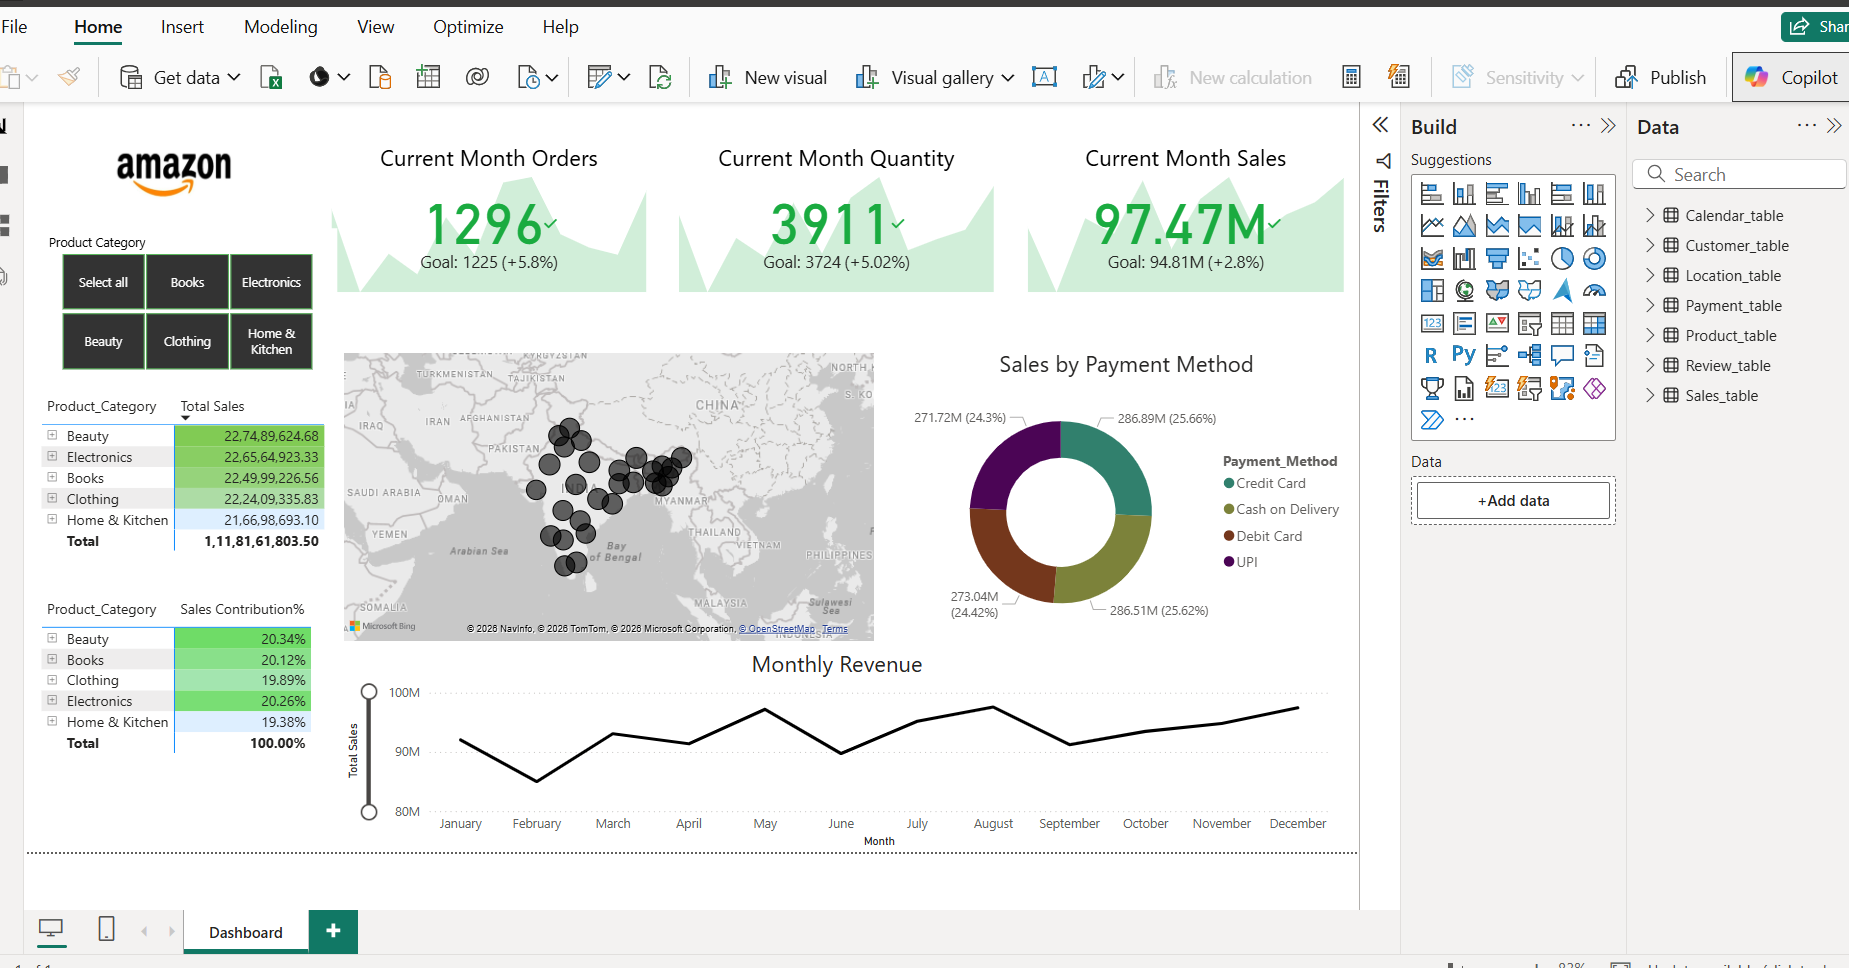

This screenshot's page, from the dashboard's own definition file:
{"tool":"powerbi","page":{"name":"Dashboard","canvas":[1280,720],"ordinal":0},"visuals":[{"type":"kpi","title":"Current Month Sales","fields":{"Indicator":["Sales_table.Total Sales"],"TrendLine":["Calendar_table.Start of Month"],"Goal":["Sales_table.Last Month Sales"]},"box":[957.5,37.9,313,149.2],"z":0},{"type":"kpi","title":"Current Month Orders","fields":{"Indicator":["Sales_table.Total Orders"],"TrendLine":["Calendar_table.Start of Month"],"Goal":["Sales_table.Last Month Orders"]},"box":[289.8,37.9,311.8,149.2],"z":1000},{"type":"kpi","title":"Current Month Quantity","fields":{"TrendLine":["Calendar_table.Start of Month"],"Indicator":["Sales_table.Total Quantity"],"Goal":["Sales_table.Last Month Quantity"]},"box":[623.6,37.9,311.8,149.2],"z":2000},{"type":"map","fields":{"Category":["Location_table.State"],"Size":["Sales_table.Total Sales"]},"box":[301.5,236.6,518,285.7],"z":3000},{"type":"lineChart","title":"Monthly Revenue","fields":{"Y":["Sales_table.Total Sales"],"Category":["Calendar_table.Date.Variation.Date Hierarchy.Year","Calendar_table.Date.Variation.Date Hierarchy.Quarter","Calendar_table.Date.Variation.Date Hierarchy.Month","Calendar_table.Date.Variation.Date Hierarchy.Day"]},"box":[301.5,523.7,955.1,196.2],"z":4000},{"type":"donutChart","title":" Sales by Payment Method","fields":{"Category":["Payment_table.Payment_Method"],"Y":["Sales_table.Total Sales"]},"box":[834,236,446.3,286.1],"z":5000},{"type":"pivotTable","fields":{"Rows":["Product_table.Product_Category Hierarchy.Product_Category","Product_table.Product_Category Hierarchy.Product_Name"],"Values":["Sales_table.Total Sales"]},"box":[11.5,275.6,290,194.8],"z":6000},{"type":"pivotTable","fields":{"Rows":["Product_table.Product_Category Hierarchy.Product_Category","Product_table.Product_Category Hierarchy.Product_Name"],"Values":["Sales_table.Sales Contribution%"]},"box":[11.5,470.3,290,233.7],"z":7000},{"type":"slicer","fields":{"Values":["Product_table.Product_Category"]},"box":[11,121.1,289.8,141.8],"z":8000},{"type":"image","box":[0,11,289.8,110.1],"z":9000}]}

Visuals, with their boxes on the page's 1280x720 design canvas (x1, y1, x2, y2). These are canvas units, not pixel positions in the 1849x968 screenshot, which may show the page scaled, cropped or inside an application window:
"Current Month Sales" kpi: x1=958, y1=38, x2=1270, y2=187
"Current Month Orders" kpi: x1=290, y1=38, x2=602, y2=187
"Current Month Quantity" kpi: x1=624, y1=38, x2=935, y2=187
map - Location_table.State x Sales_table.Total Sales: x1=302, y1=237, x2=820, y2=522
"Monthly Revenue" lineChart: x1=302, y1=524, x2=1257, y2=720
" Sales by Payment Method" donutChart: x1=834, y1=236, x2=1280, y2=522
pivotTable - Product_table.Product_Category Hierarchy.Product_Category x Product_table.Product_Category Hierarchy.Product_Name: x1=12, y1=276, x2=302, y2=470
pivotTable - Product_table.Product_Category Hierarchy.Product_Category x Product_table.Product_Category Hierarchy.Product_Name: x1=12, y1=470, x2=302, y2=704
slicer - Product_table.Product_Category: x1=11, y1=121, x2=301, y2=263
image: x1=0, y1=11, x2=290, y2=121
